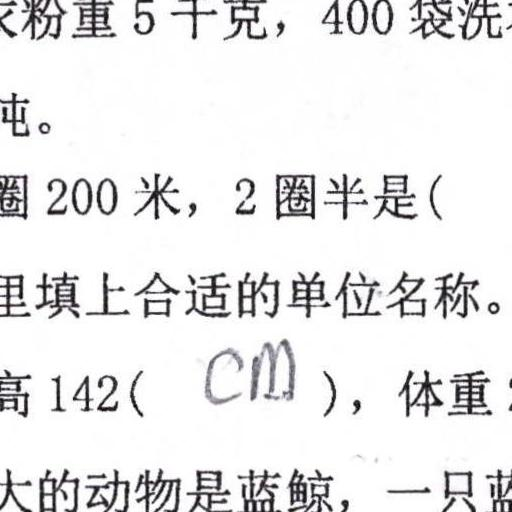ans: (198, 334, 298, 407)
